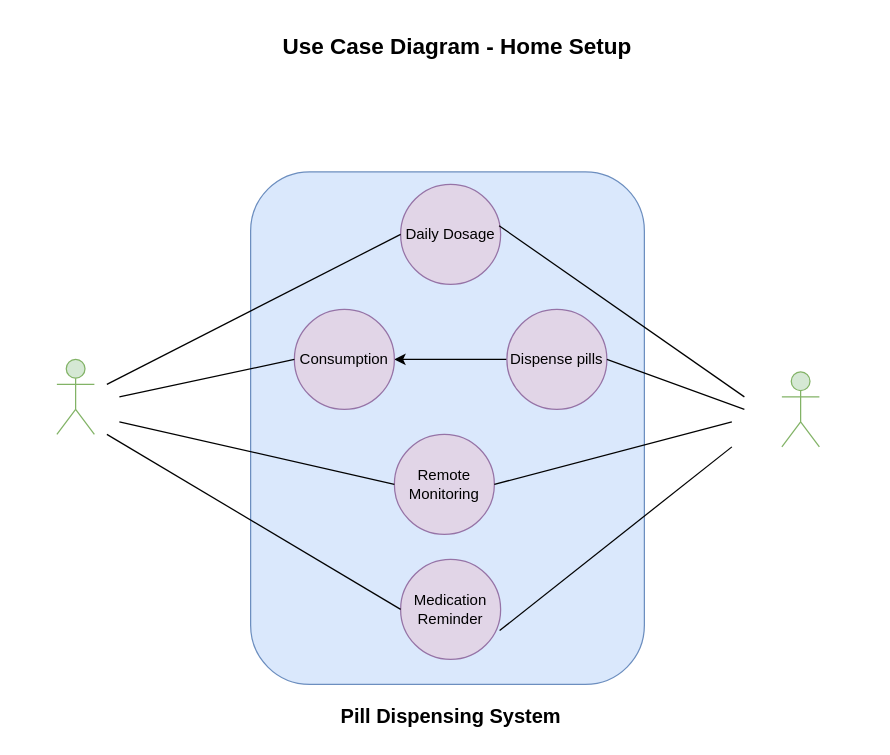
Image size: 890x755. Some labels were removed from this diagram. The centre of each missing label's shape, as x and y in pixels:
Patient / Elderly: point (75, 396)
Smart Pill Dispenser: point (800, 409)
